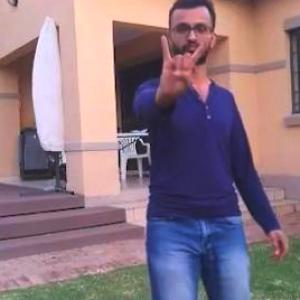takeoff-hand: (150, 26, 210, 107)
